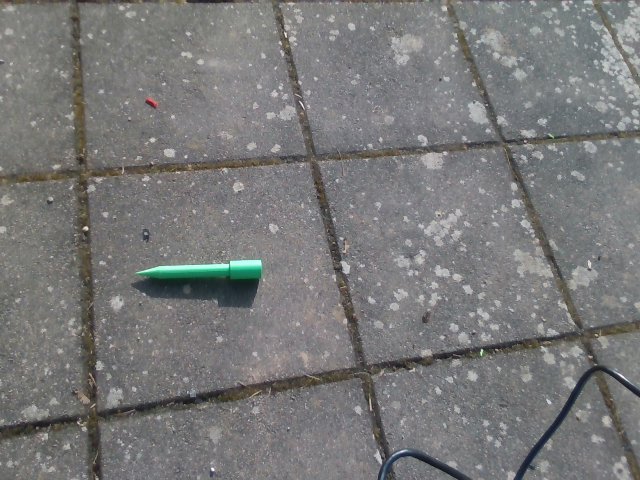Probe: (133, 255, 265, 288)
